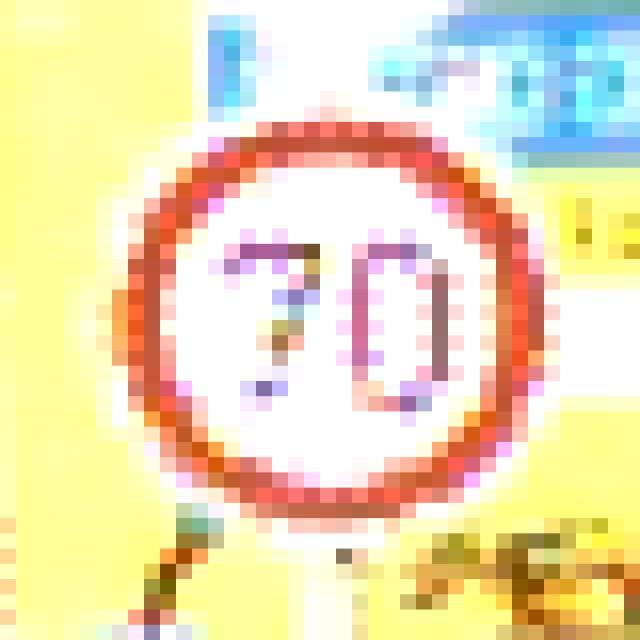Ograniczenie predkosci do 70: (120, 118, 546, 526)
